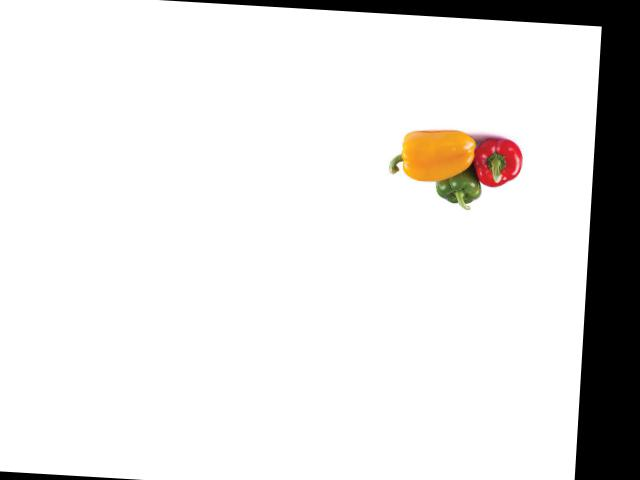bell_pepper: (430, 161, 487, 211)
